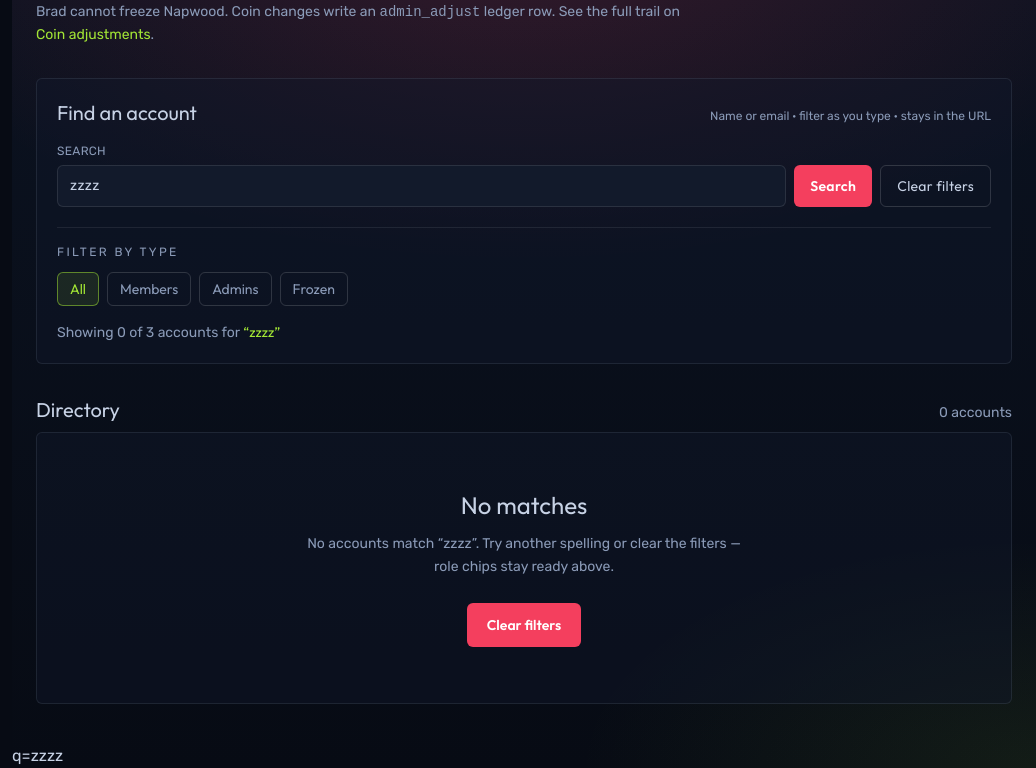
Scenario: AdminUsersPage accounts search › shows No matches and Clear filters when Find yields none
(page scrolled)
Expected: the text "No matches" is shown, [461, 490, 587, 520]
Expected: the message named "No matching accounts" is shown, [36, 432, 1012, 704]
Click the button "Clear filters" below "No accounts match": (524, 625) [467, 603, 581, 647]
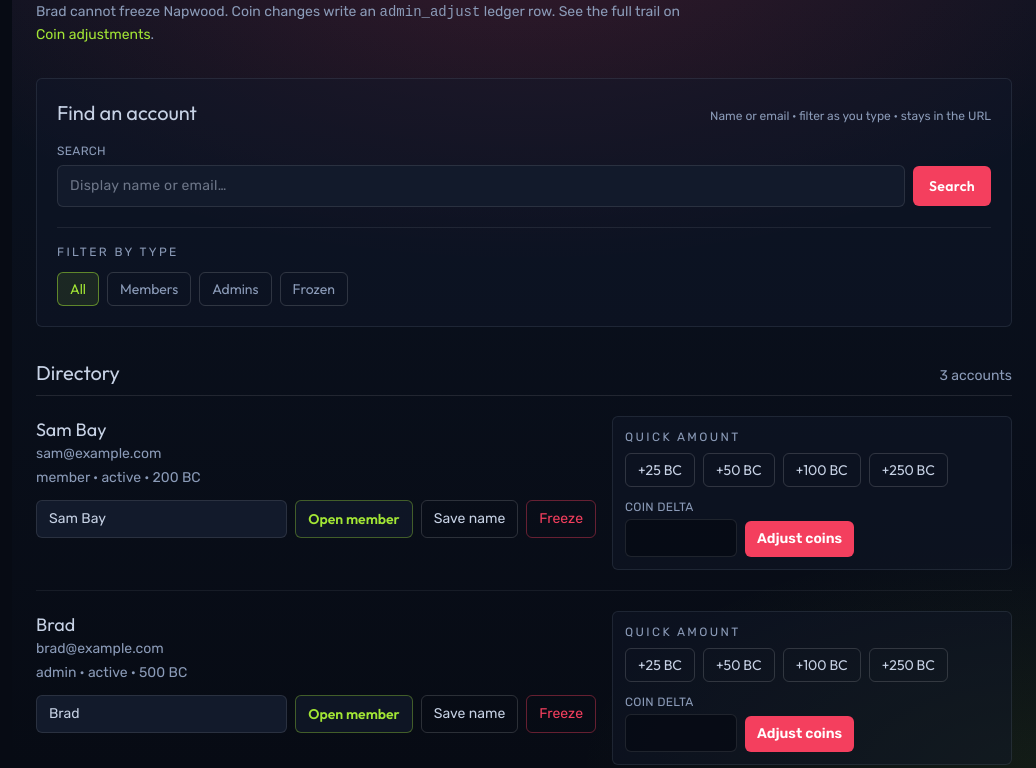
Now the text "Sam Bay" is shown, box [36, 418, 106, 441]
Now the text "Brad" is shown, box [36, 613, 75, 636]
Now the text "No matches" is gone
